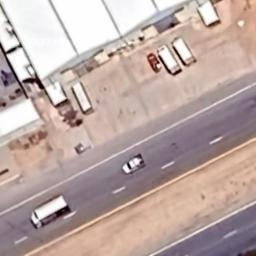others: (30, 194, 72, 230)
truck: (156, 44, 182, 76), (171, 37, 197, 67)
unknown: (145, 53, 163, 73)
van: (121, 154, 146, 174)
